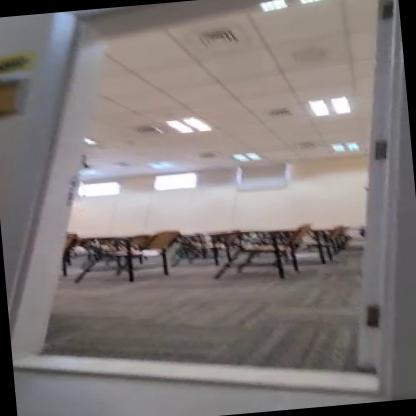open: (46, 0, 389, 392)
